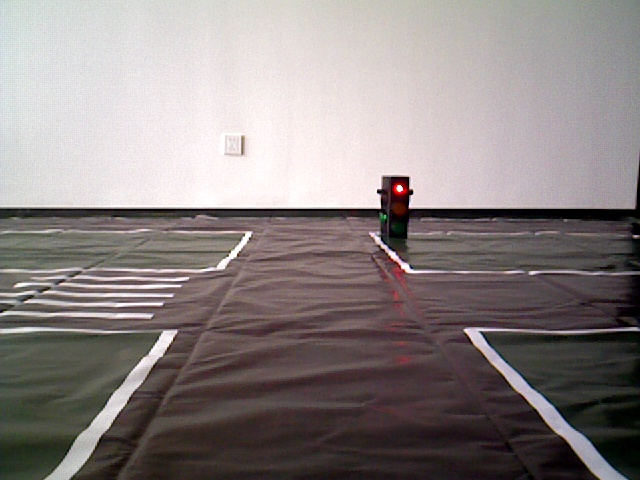red: (379, 177, 408, 240)
